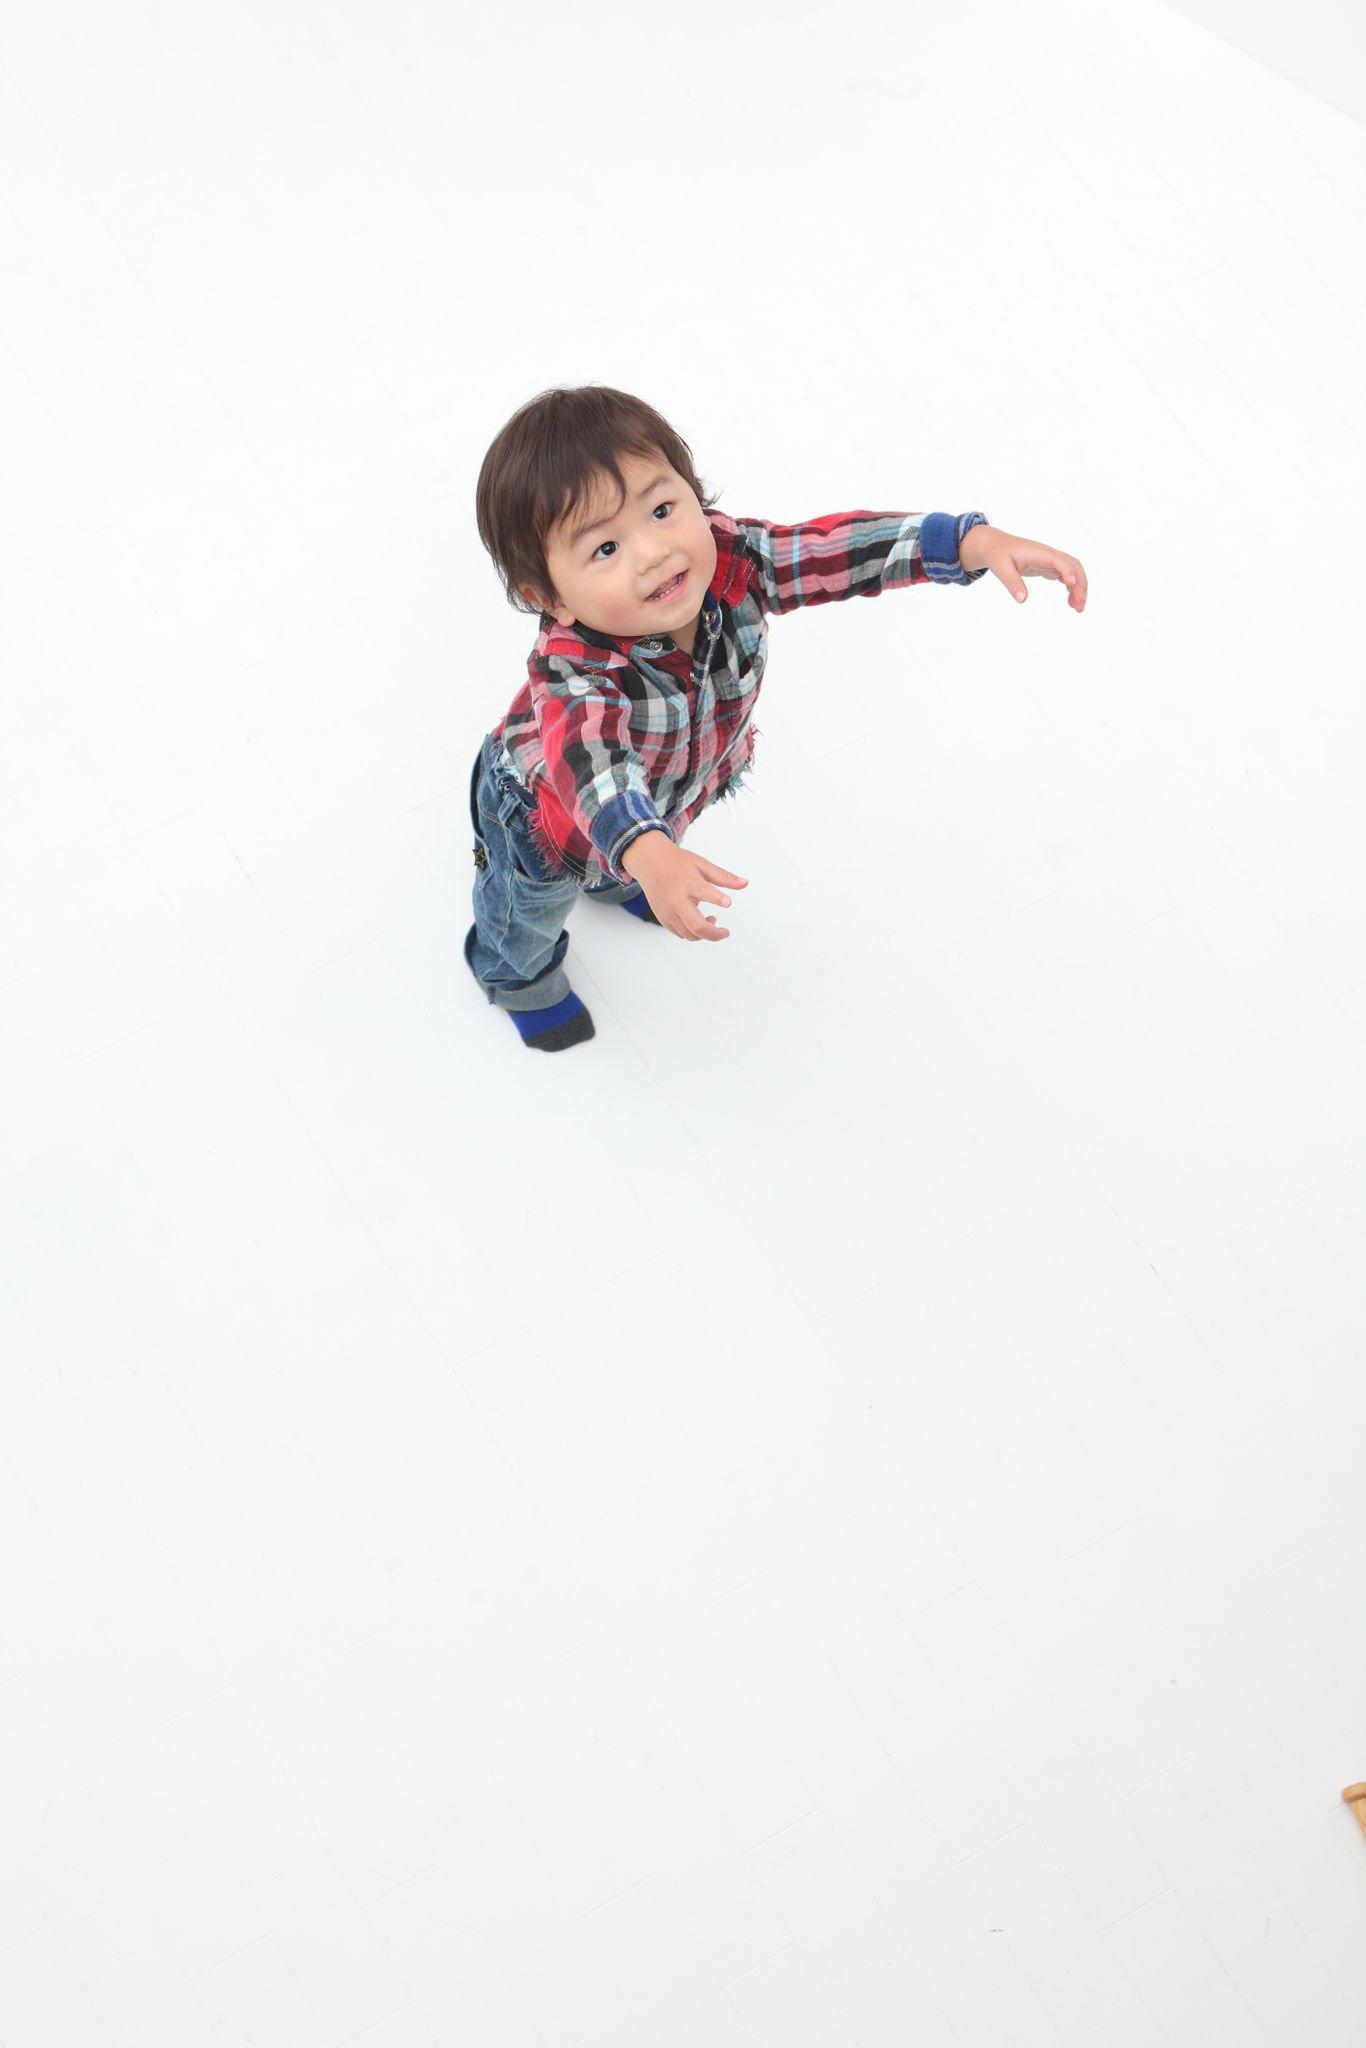Healthy: (502, 361, 720, 675)
